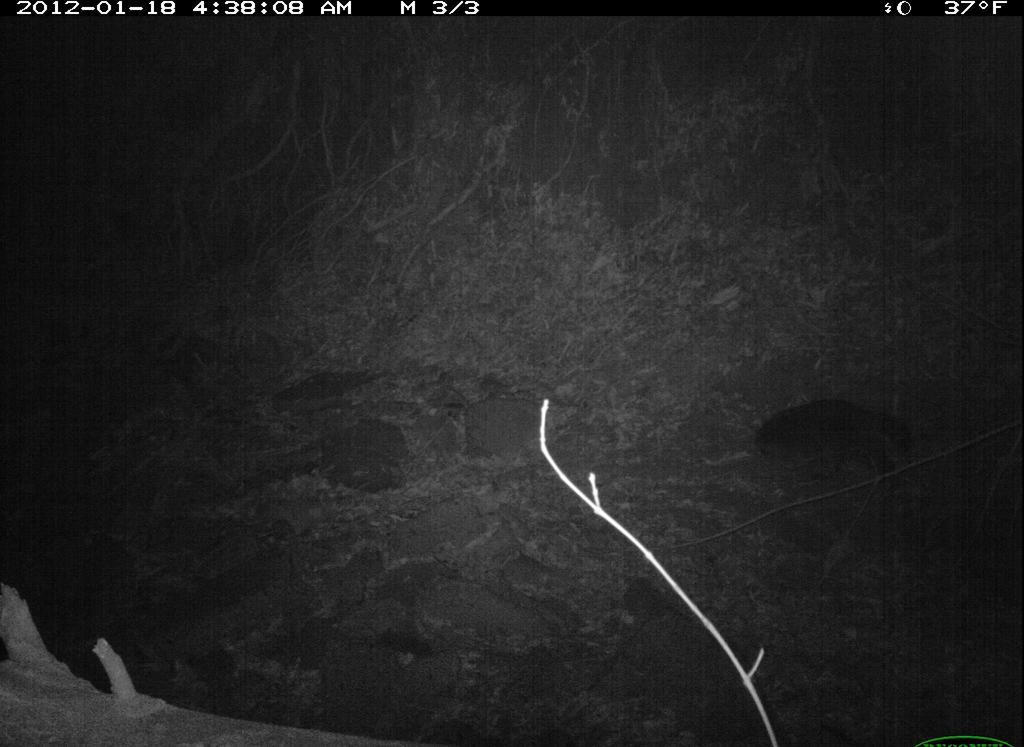raccoon: (737, 392, 923, 502)
